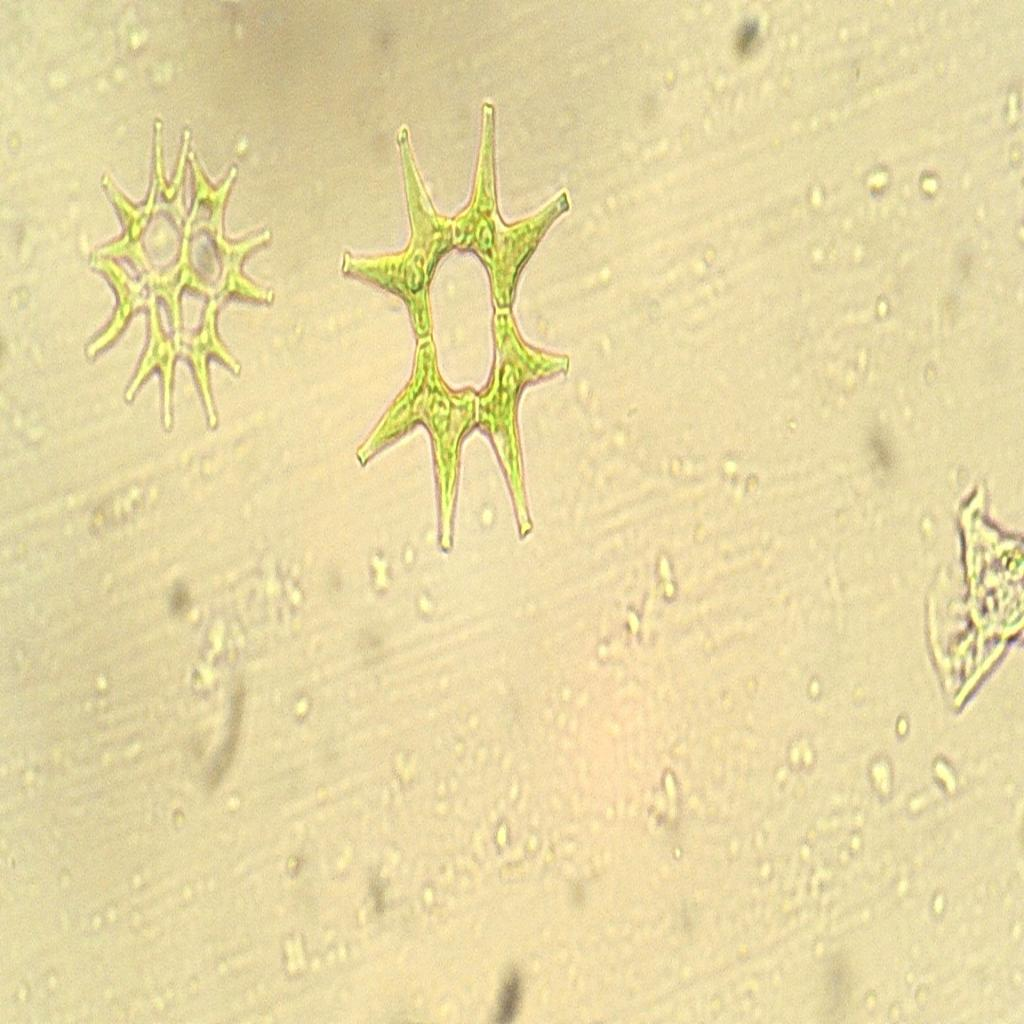Pediastrum_75O: (321, 90, 600, 572)
